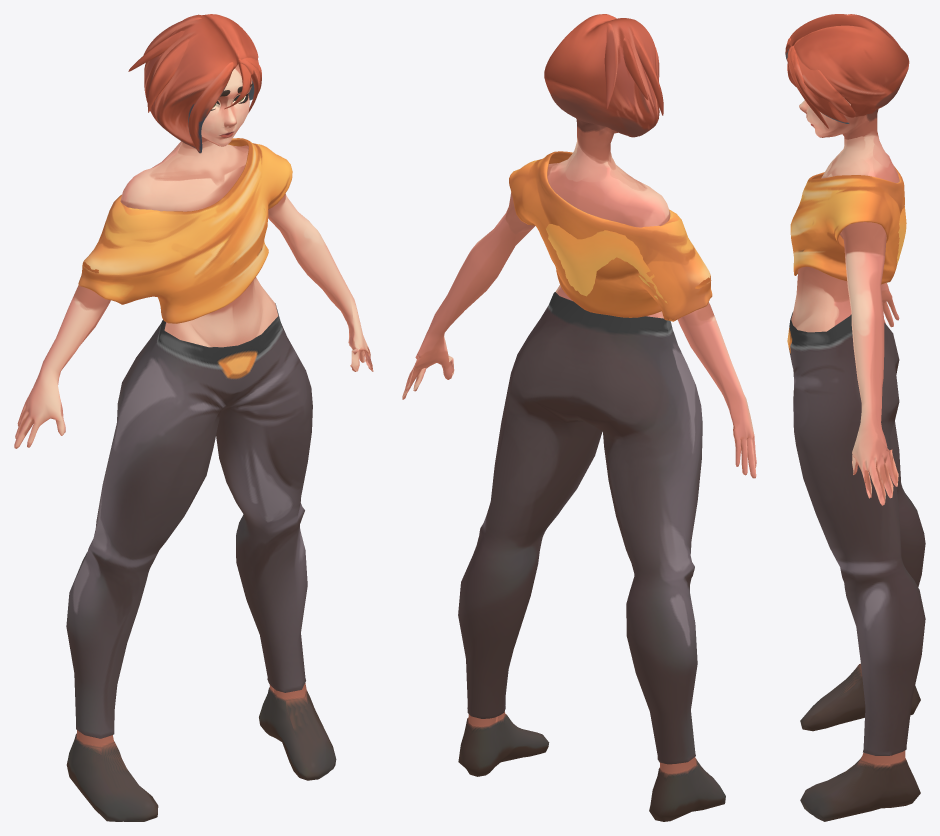
Rendered from normal_girl.glb.
The picture shows the model from 3 angles, left to right: view 1: azimuth 30°, elevation 25°; view 2: azimuth 150°, elevation 25°; view 3: azimuth 270°, elevation 25°; orthographic projection. The views are drawn at different scales.
Visible parts, largest first — view 1: Object_2, Object_3; view 2: Object_2, Object_3; view 3: Object_2, Object_3.
Boxes of the visible parts, left/top/right/bottom form: Object_2: left=66, top=14, right=336, bottom=821; Object_3: left=14, top=64, right=373, bottom=448; Object_2: left=458, top=14, right=725, bottom=821; Object_3: left=402, top=118, right=756, bottom=478; Object_2: left=785, top=14, right=925, bottom=821; Object_3: left=790, top=100, right=906, bottom=505.
Size of the model in its own units: 1.54 by 3.18 by 0.5384.
1 material, 1 textured.
